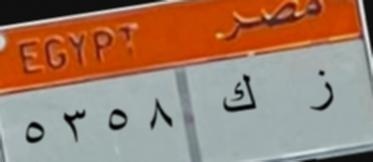3: (58, 103, 90, 152)
5: (104, 102, 132, 141), (19, 116, 50, 147)
8: (144, 94, 176, 136)
kaaf: (217, 70, 262, 122)
zay: (302, 67, 337, 122)
